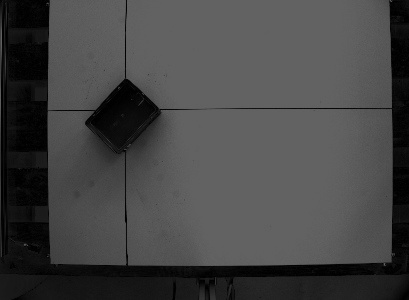klts: (82, 76, 164, 156)
